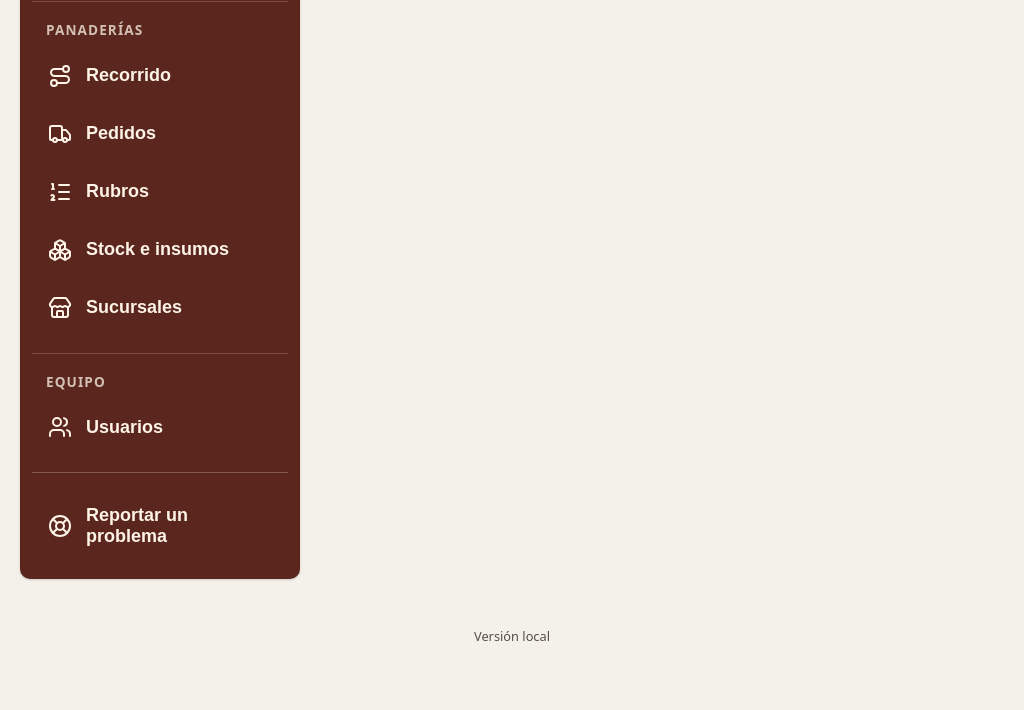
it: administración de usuarios › lista los usuarios y marca los desactivados
(page scrolled)
Step 1. Click the button "Usuarios" → (160, 427), box [32,400,288,454]
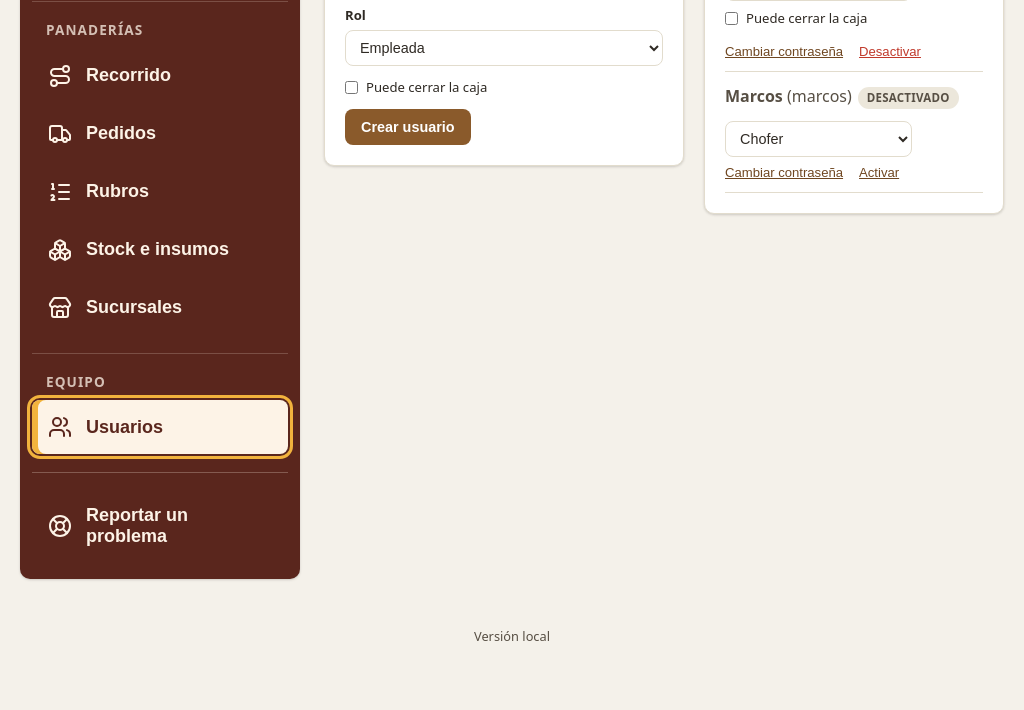
Now the text "DESACTIVADO" is shown, box [858,88,958,109]
Now the button "Desactivar" is shown, box [859,44,921,60]
